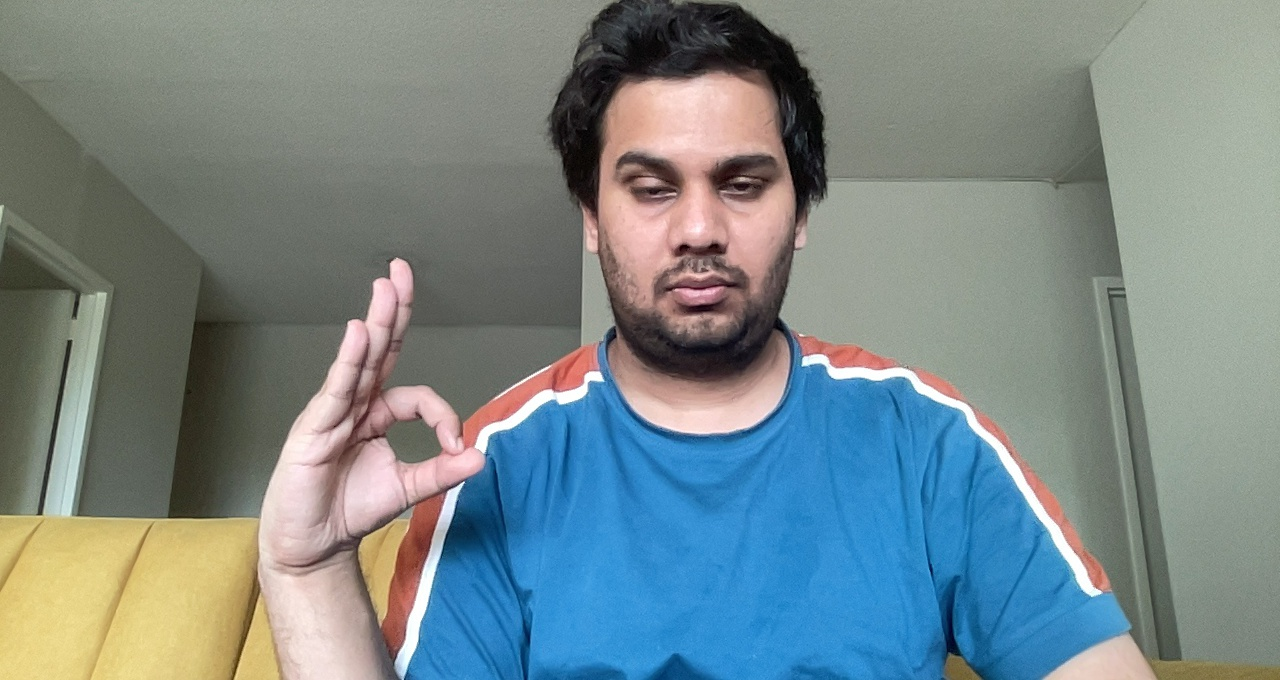ok: (251, 257, 496, 586)
